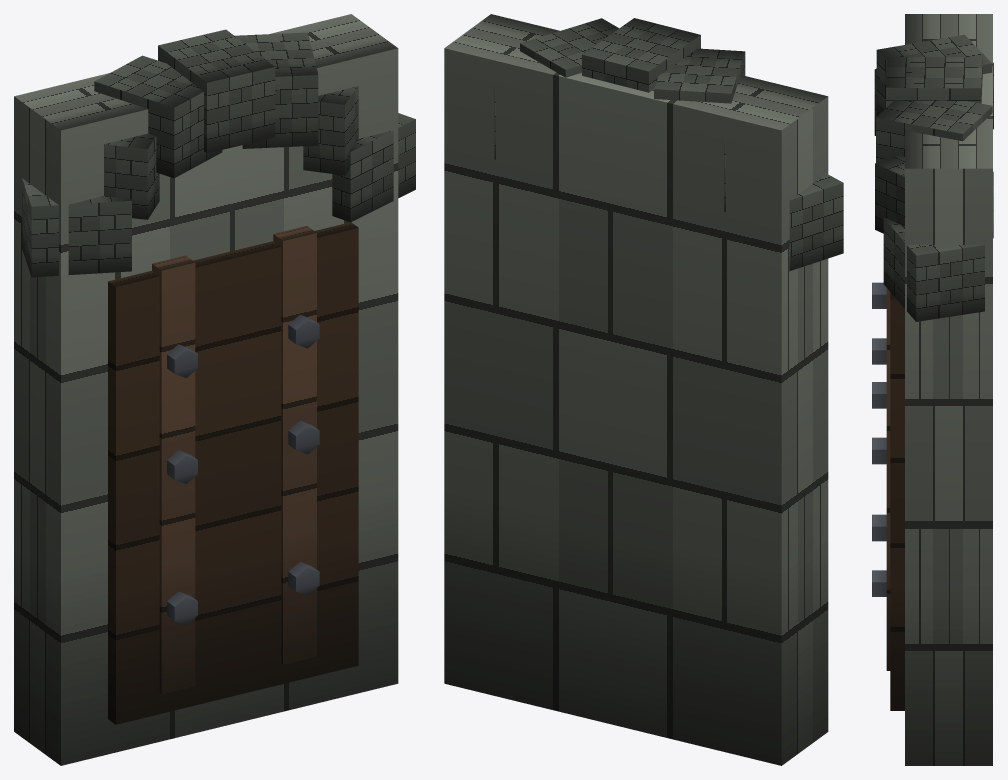
Rendered from door_arch.gltf.
3 renders of one model, left to right at view 1: azimuth 30°, elevation 25°; view 2: azimuth 150°, elevation 25°; view 3: azimuth 270°, elevation 25°, orthographic. The views are drawn at different scales.
Parts seen in each view (by area): view 1: door_arch; view 2: door_arch; view 3: door_arch.
Part boxes in pixels (<box>): door_arch: <box>14,14,415,765</box>; door_arch: <box>444,14,843,765</box>; door_arch: <box>872,14,993,765</box>.
Bounding box in the file's own units: 0.5679 × 0.93 × 0.1663.
1 material, 1 textured.
